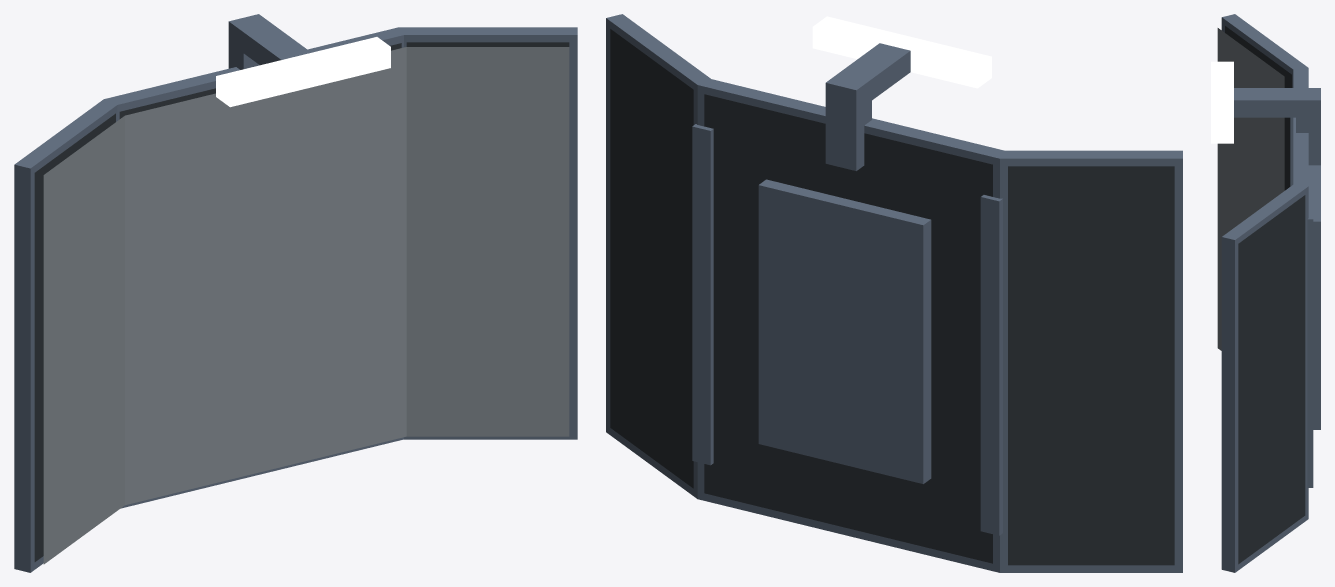
Rendered from tri-fold.glb.
The picture shows the model from 3 angles, left to right: view 1: azimuth 30°, elevation 25°; view 2: azimuth 150°, elevation 25°; view 3: azimuth 270°, elevation 25°; orthographic projection. The views are drawn at different scales.
Visible parts, largest first — view 1: makeup-face-center, makeup-face-right, makeup-face-left, makeup-frame-left, makeup-frame-right, makeup-lamp, makeup-back-left, makeup-frame-center, makeup-lamp-arm, makeup-back-right; view 2: makeup-back-left, makeup-back-center, makeup-wall-mount, makeup-back-right, makeup-frame-left, makeup-frame-center, makeup-hinge-left, makeup-hinge-right, makeup-lamp, makeup-frame-right, makeup-lamp-arm, makeup-lamp-riser; view 3: makeup-back-right, makeup-frame-right, makeup-face-left, makeup-lamp-arm, makeup-wall-mount, makeup-hinge-right, makeup-lamp, makeup-frame-left, makeup-frame-center, makeup-back-left, makeup-lamp-riser, makeup-hinge-left.
Boxes of the visible parts, x1,y1,x2,y2 form: makeup-face-center: (125, 47, 406, 505); makeup-face-right: (406, 47, 569, 436); makeup-face-left: (43, 116, 124, 564); makeup-frame-left: (14, 99, 117, 572); makeup-frame-right: (399, 27, 577, 439); makeup-lamp: (216, 37, 390, 107); makeup-back-left: (34, 113, 115, 561); makeup-frame-center: (104, 27, 403, 508); makeup-lamp-arm: (228, 14, 311, 65); makeup-back-right: (406, 42, 569, 46); makeup-back-left: (1008, 166, 1174, 565); makeup-back-center: (704, 94, 992, 563); makeup-wall-mount: (758, 179, 931, 483); makeup-back-right: (610, 29, 693, 488); makeup-frame-left: (1000, 150, 1182, 572); makeup-frame-center: (697, 79, 1004, 572); makeup-hinge-left: (980, 195, 1002, 535); makeup-hinge-right: (692, 124, 713, 465); makeup-lamp: (812, 16, 991, 88); makeup-frame-right: (606, 14, 710, 498); makeup-lamp-arm: (825, 43, 910, 111); makeup-lamp-riser: (825, 101, 871, 170); makeup-back-right: (1238, 195, 1305, 564); makeup-frame-right: (1221, 184, 1308, 572); makeup-face-left: (1217, 28, 1284, 350); makeup-lamp-arm: (1234, 88, 1320, 117); makeup-wall-mount: (1308, 165, 1320, 429); makeup-hinge-right: (1307, 212, 1313, 487); makeup-lamp: (1211, 61, 1233, 143); makeup-frame-left: (1221, 14, 1307, 87); makeup-frame-center: (1293, 68, 1308, 186); makeup-back-left: (1225, 26, 1291, 190); makeup-lamp-riser: (1296, 117, 1320, 165); makeup-hinge-left: (1290, 117, 1293, 186).
Bounding box in the file's own units: 0.5596 × 0.422 × 0.115.
